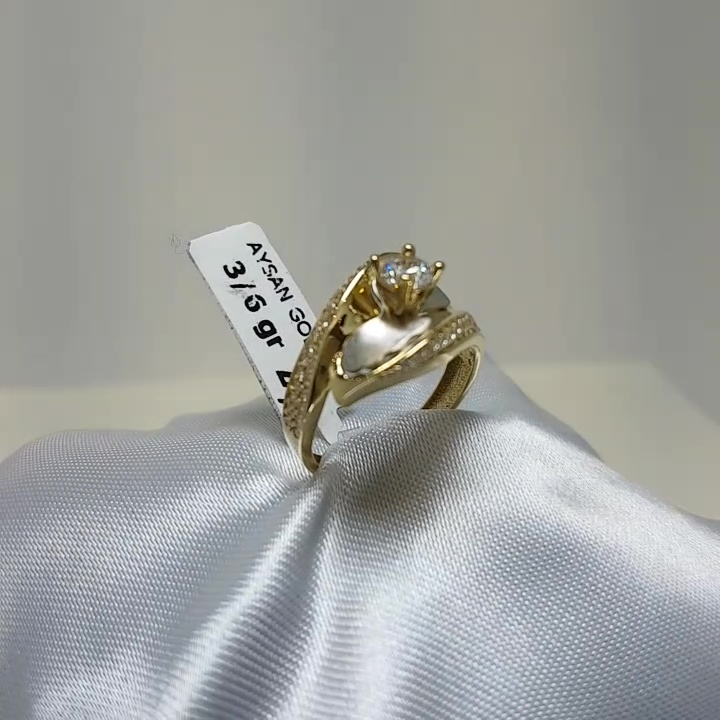Ring 6: (275, 219, 511, 478)
